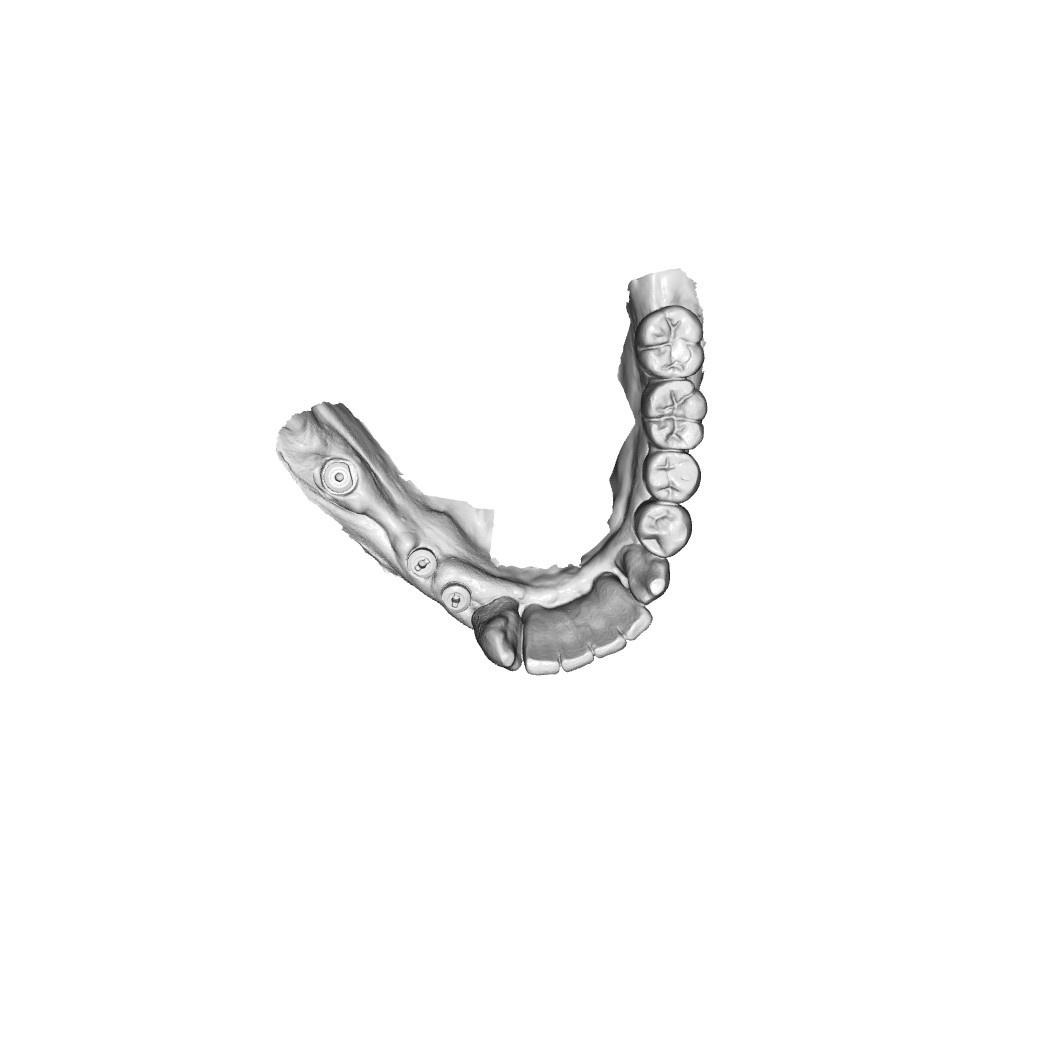canine: (621, 542, 677, 605), (478, 604, 521, 668)
implant: (313, 450, 365, 501)
implant_minus: (432, 578, 472, 618), (403, 542, 438, 586)
incisor: (601, 581, 651, 641), (523, 605, 561, 674), (579, 595, 621, 656), (555, 611, 594, 668)
molar: (637, 304, 704, 384), (646, 383, 704, 452)
premolar: (646, 449, 701, 501), (636, 500, 688, 552)
